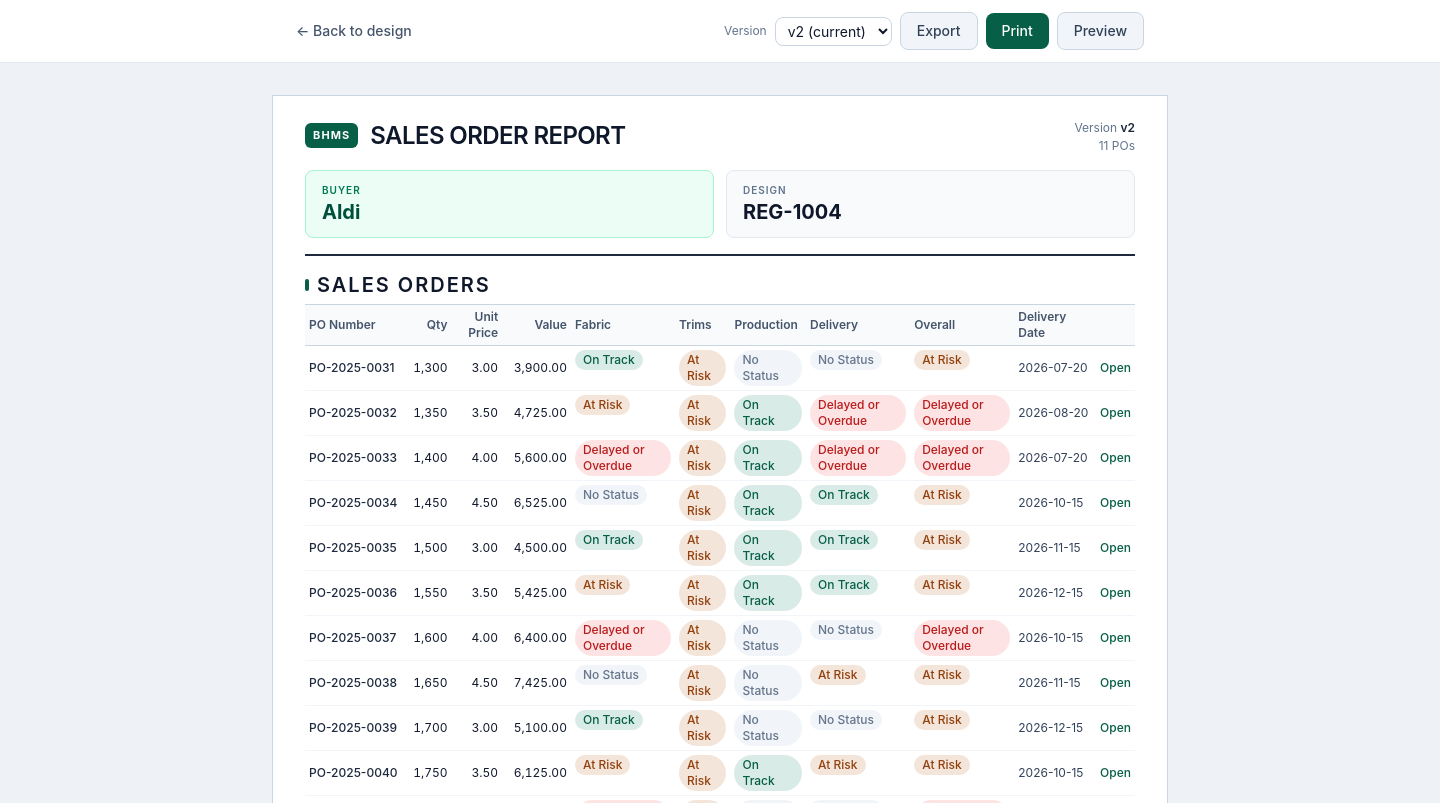
Scenario: DesignSalesReportPage › toggles Preview to hide the print and export actions
Expected: the heading "Sales Order Report" is shown, [370,120,626,151]
Expected: the button with test id "print-trigger" is shown, [986,13,1049,49]
Click the button with test id "preview-toggle" at (1100, 31), box [1057,12,1144,50]
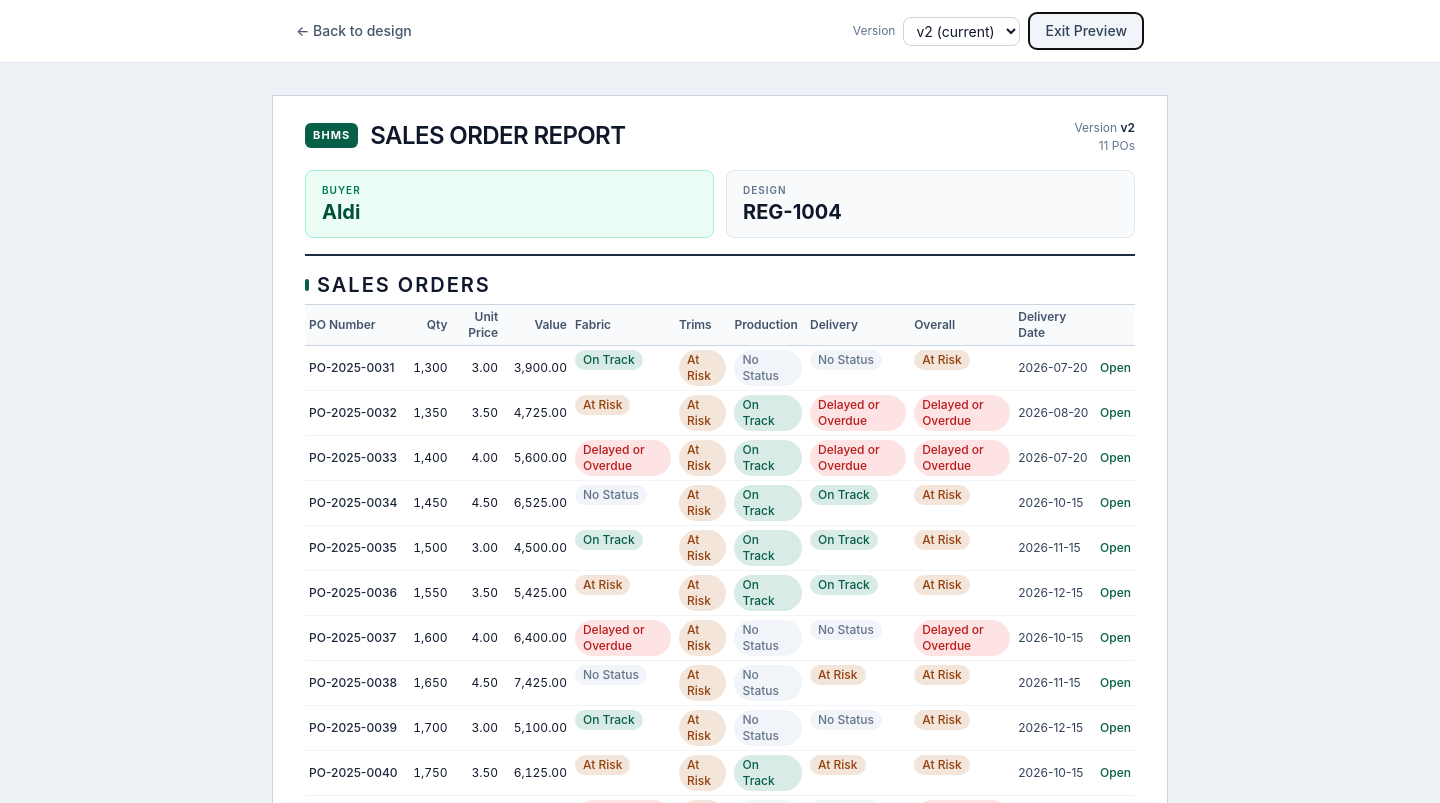
Result: the button with test id "print-trigger" is gone
Result: the button with test id "export-trigger" is gone
